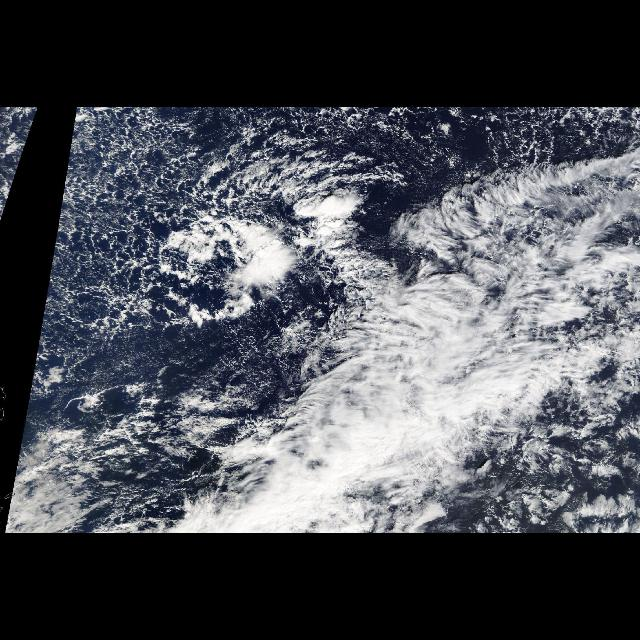Fish: (228, 157, 632, 385)
Gravel: (24, 108, 362, 416), (1, 108, 41, 226)
